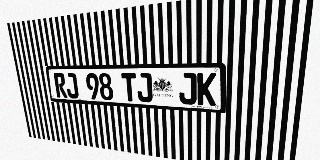8: (98, 73, 114, 100)
9: (85, 73, 100, 100)
J: (179, 73, 197, 105), (136, 73, 153, 102), (64, 73, 79, 99)
K: (197, 73, 216, 106)
R: (53, 73, 68, 98)
T: (121, 73, 137, 102)
